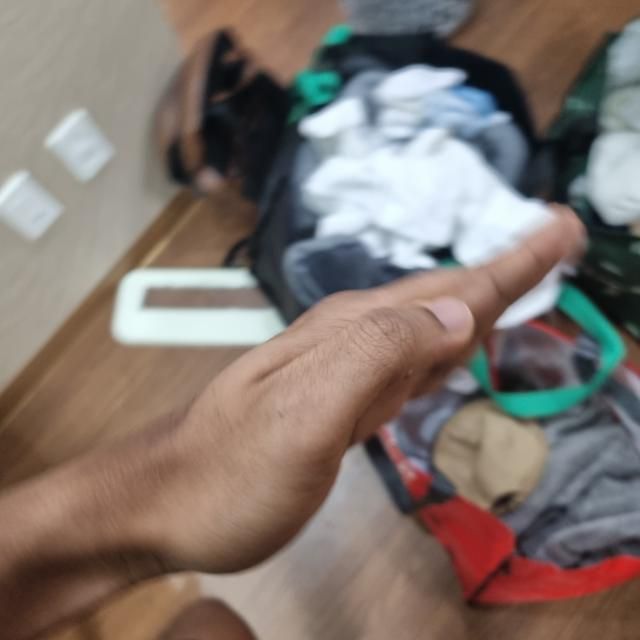Paper: (107, 229, 556, 579)
